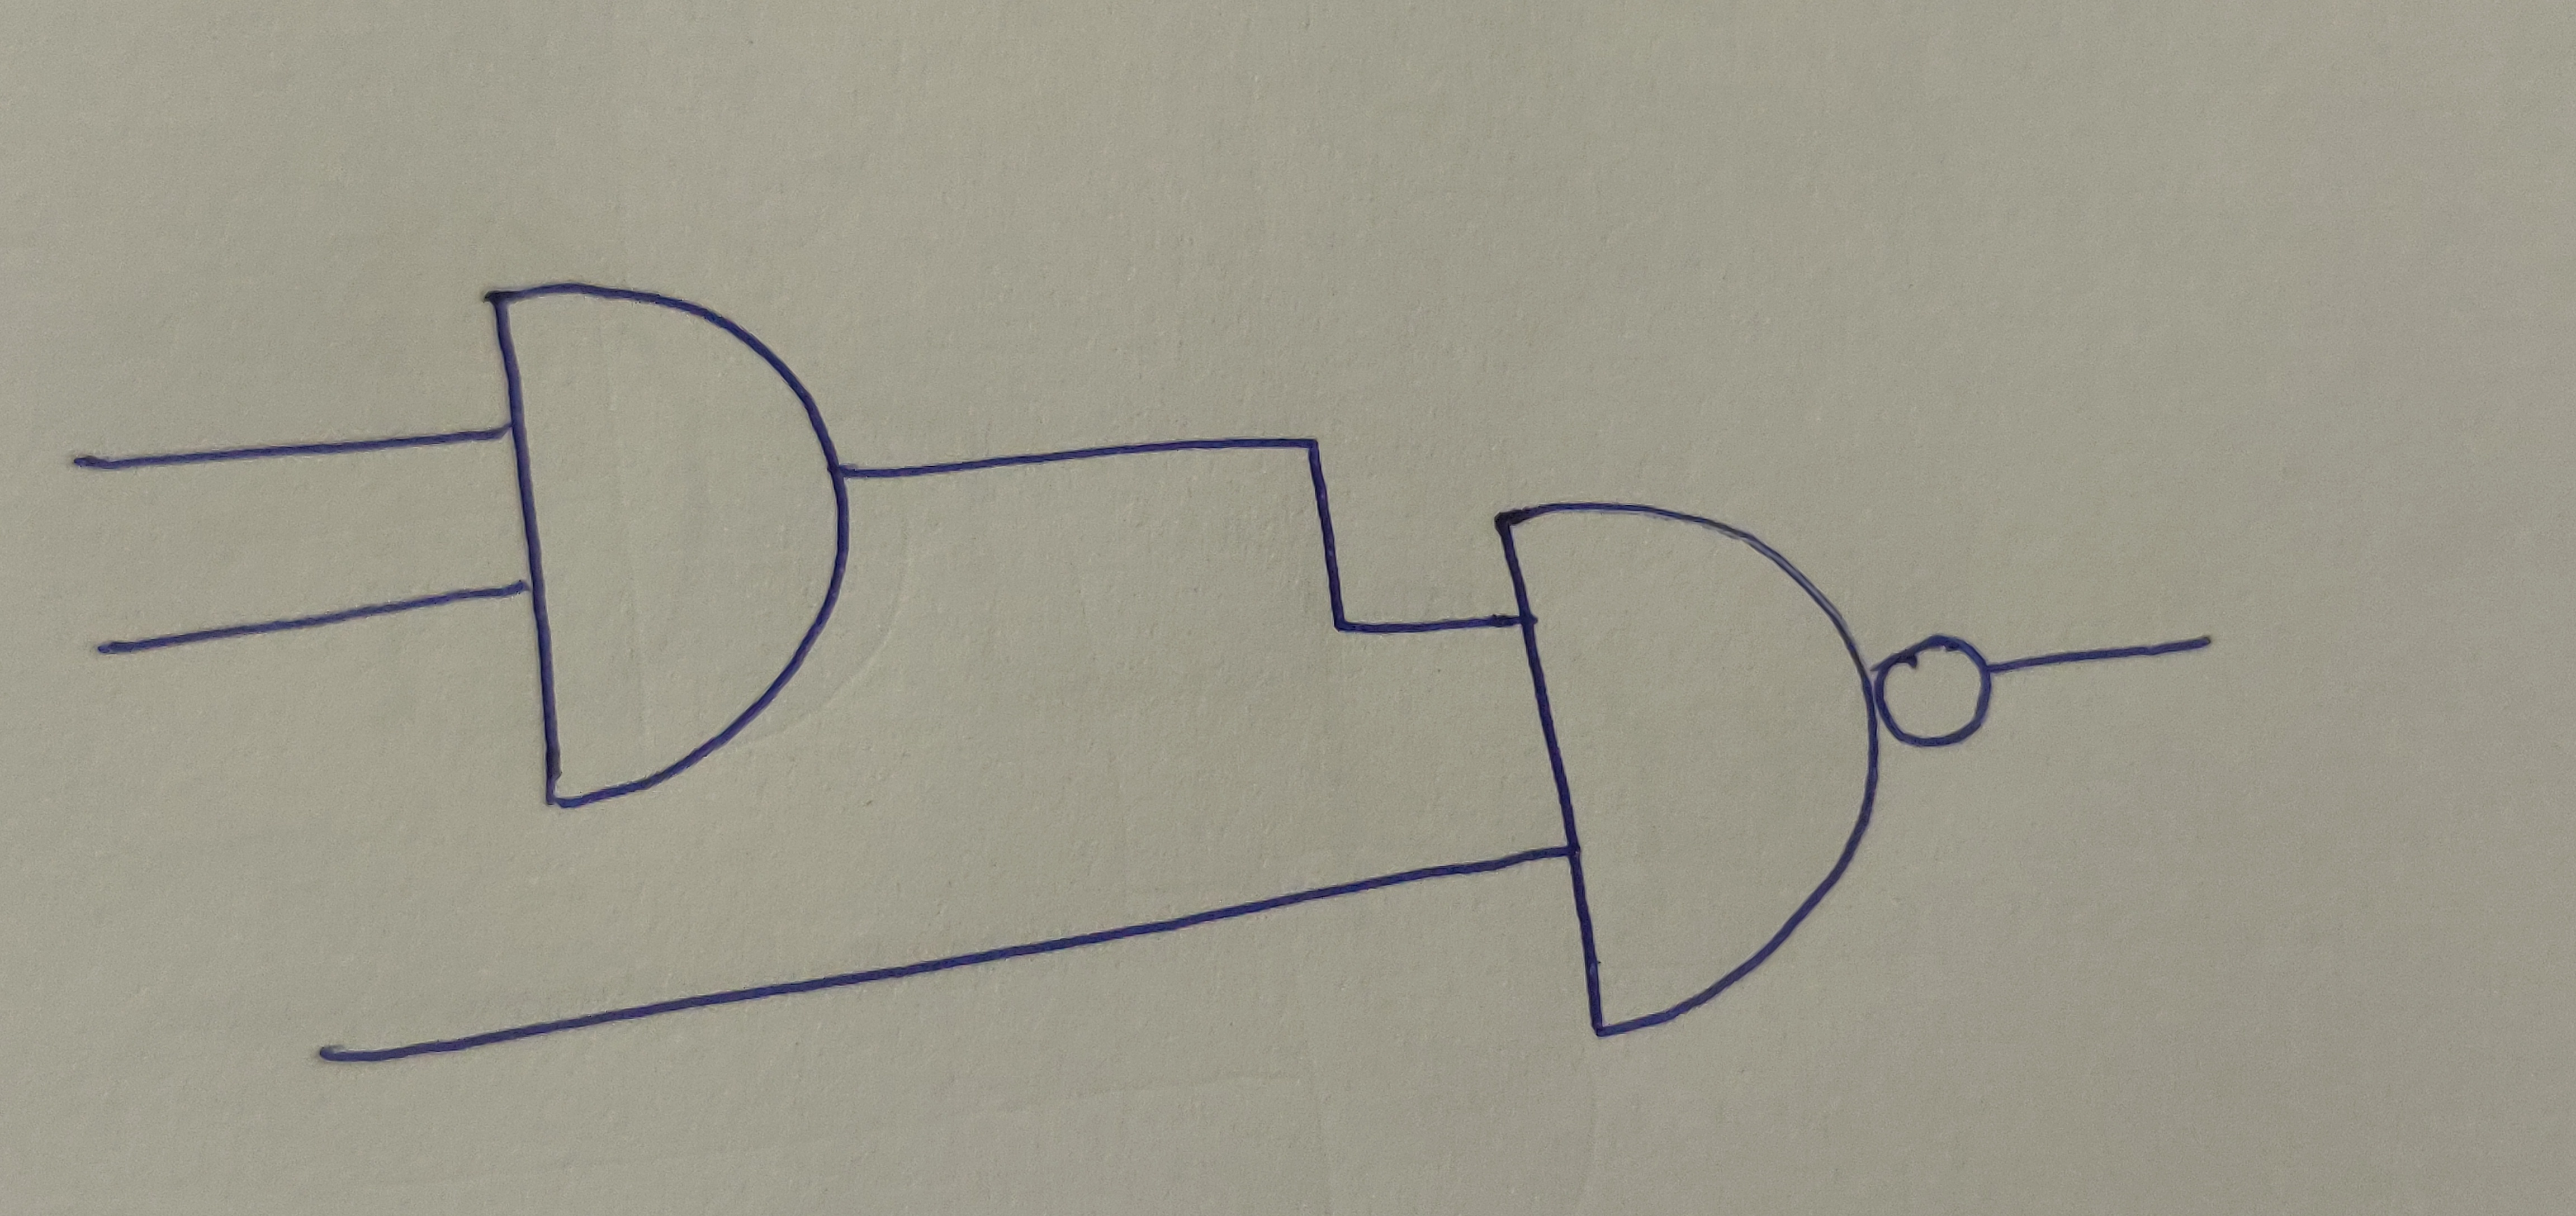and: (1485, 495, 1883, 1043), (488, 281, 854, 813)
not: (1873, 634, 1994, 746)
